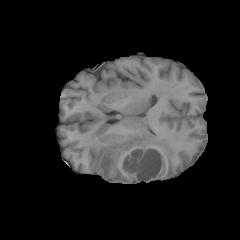glioma: (96, 130, 178, 183)
